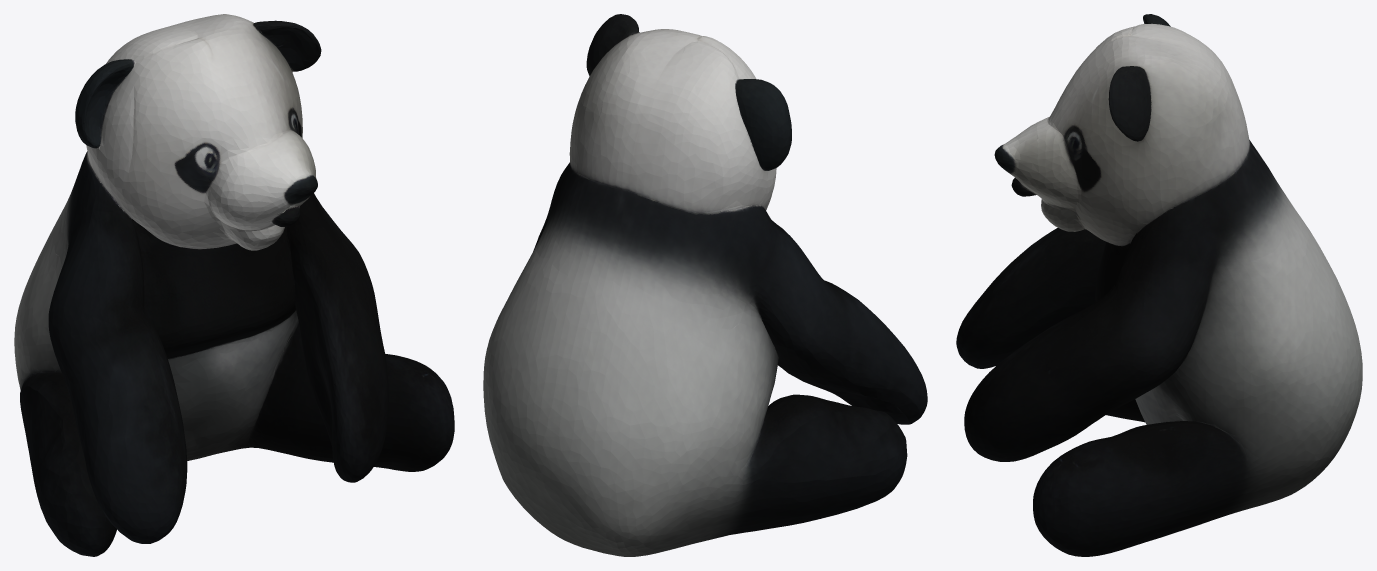
The picture shows the model from 3 angles, left to right: view 1: azimuth 30°, elevation 25°; view 2: azimuth 150°, elevation 25°; view 3: azimuth 270°, elevation 25°; orthographic projection. The views are drawn at different scales.
Parts seen in each view (by area): view 1: geometry_0; view 2: geometry_0; view 3: geometry_0.
Boxes of the visible parts, box(x1,y1,x2,y2) form: geometry_0: box(14, 14, 454, 556); geometry_0: box(483, 14, 927, 556); geometry_0: box(956, 14, 1362, 556).
Size of the model in its own units: 0.121 by 0.136 by 0.1134.
Materials: 1 (1 with a texture image).
